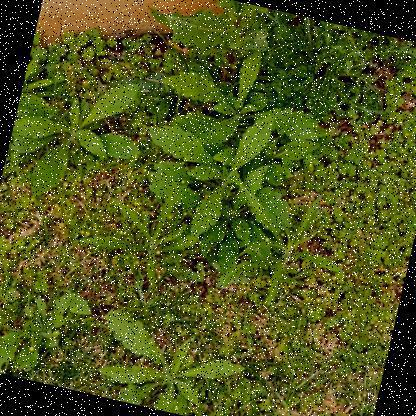Weeds: (120, 88, 324, 289), (150, 27, 349, 173), (0, 57, 156, 217), (245, 8, 415, 137), (213, 181, 358, 319), (70, 166, 211, 300), (87, 308, 250, 415), (0, 273, 93, 390), (142, 0, 280, 69)
